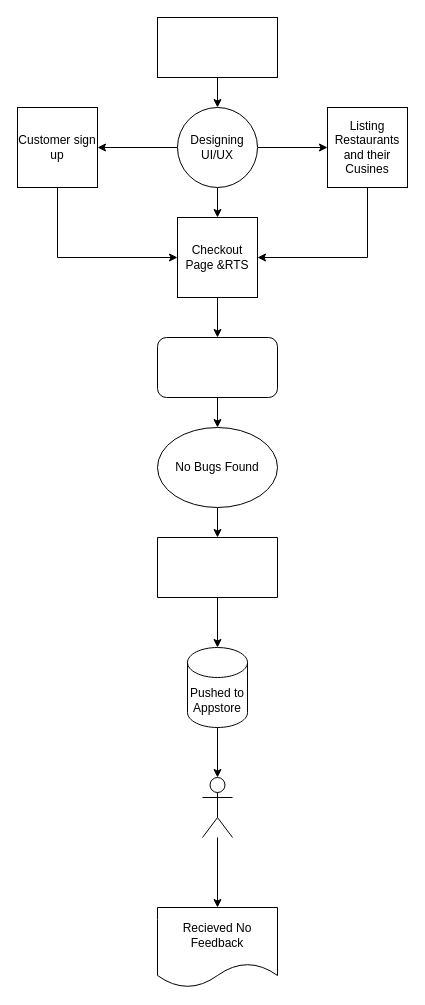
Image size: 425x1005. Some labels were removed from this diagram. Here are the shapes that lost their labels. From the top down, the centre of each, then its label:
At point 217,47: "ZK Eats".
At point 217,367: "Compling to Apk".
At point 217,567: "Writing Permissions for Deployment".
At point 217,807: "Actor".
